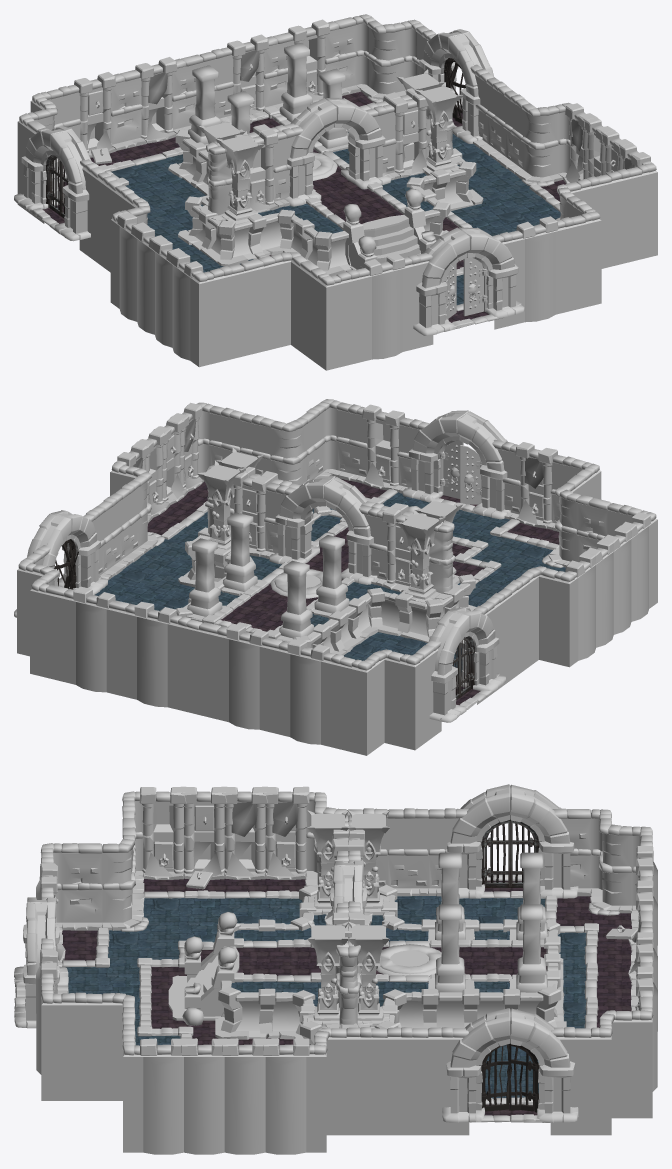
The model's file is sample_level.fbx.
3 views of the same model, one above another, from view 1: azimuth 30°, elevation 25°; view 2: azimuth 150°, elevation 25°; view 3: azimuth 270°, elevation 25° (orthographic). The views are drawn at different scales.
Parts seen in each view (by area): view 1: sample_walls, sample_floor, sample_floor_alt, sample_webs, sample_door_wood, sample_door_metal_gate; view 2: sample_walls, sample_floor, sample_floor_alt, sample_door_wood, sample_webs, sample_door_metal_gate; view 3: sample_walls, sample_floor, sample_floor_alt, sample_door_metal_gate, sample_webs.
Part boxes in pixels (x1=…): sample_walls: x1=14, y1=14, x2=657, y2=370; sample_floor: x1=111, y1=132, x2=560, y2=305; sample_floor_alt: x1=42, y1=91, x2=565, y2=322; sample_webs: x1=87, y1=50, x2=634, y2=210; sample_door_wood: x1=446, y1=257, x2=487, y2=318; sample_door_metal_gate: x1=46, y1=58, x2=466, y2=218; sample_walls: x1=14, y1=399, x2=657, y2=755; sample_floor: x1=95, y1=492, x2=565, y2=675; sample_floor_alt: x1=147, y1=478, x2=559, y2=705; sample_door_wood: x1=439, y1=440, x2=481, y2=504; sample_webs: x1=133, y1=418, x2=543, y2=524; sample_door_metal_gate: x1=54, y1=539, x2=474, y2=699; sample_walls: x1=14, y1=784, x2=657, y2=1154; sample_floor: x1=66, y1=896, x2=586, y2=1098; sample_floor_alt: x1=62, y1=878, x2=631, y2=1115; sample_door_metal_gate: x1=481, y1=819, x2=539, y2=1112; sample_webs: x1=54, y1=802, x2=639, y2=1010.
Bounding box in the file's own units: 3054 × 859 × 3162.
